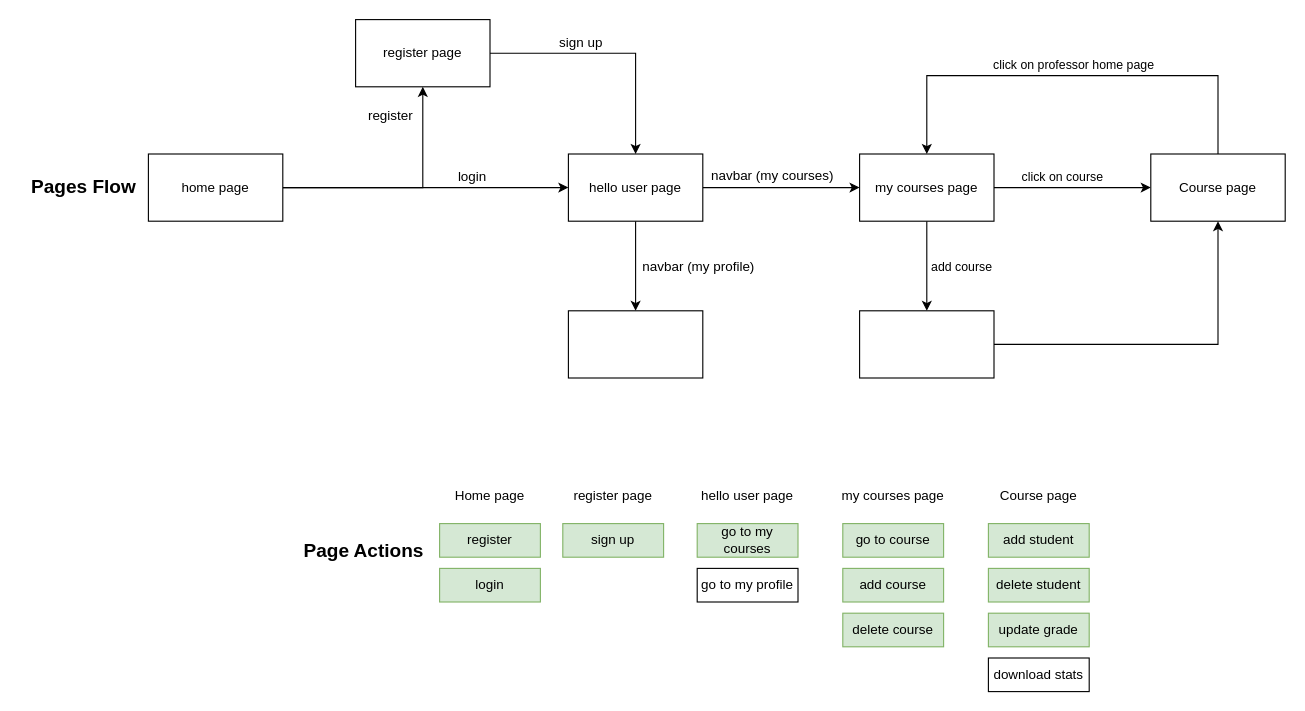
Image size: 1305x711. Some labels were removed from this diagram. Each missing label, with the centre of its shape:
"add course page" belongs at (926,344).
"my profile page" belongs at (635,344).
